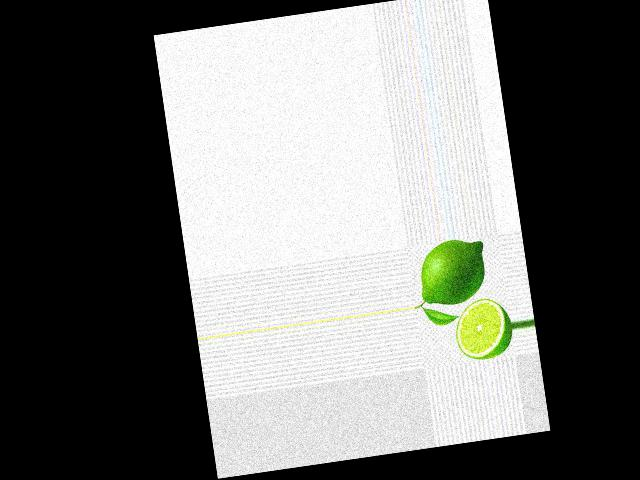lemon: (412, 235, 495, 312)
